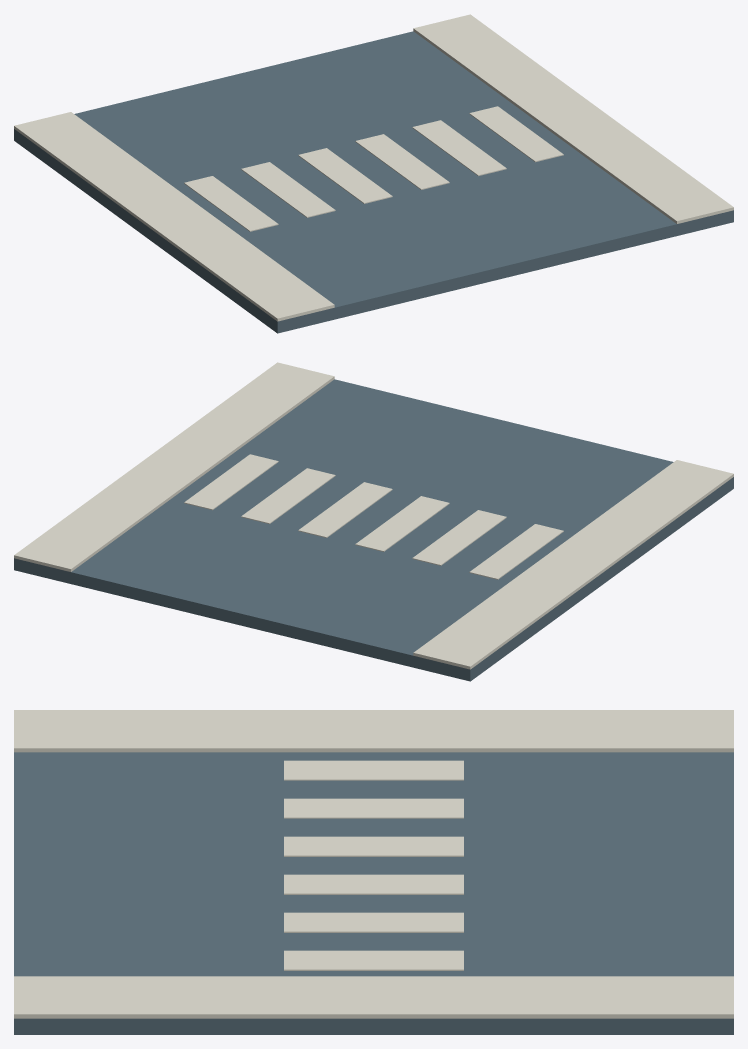
Rendered from voxel-city-districts-road-zebra-086574bd__24817.glb.
The picture shows the model from 3 angles, top to bottom: view 1: azimuth 30°, elevation 25°; view 2: azimuth 150°, elevation 25°; view 3: azimuth 270°, elevation 25°; orthographic projection. The views are drawn at different scales.
Parts seen in each view (by area): view 1: road-zebra-dark, road-zebra-concrete; view 2: road-zebra-dark, road-zebra-concrete; view 3: road-zebra-dark, road-zebra-concrete.
Boxes of the visible parts, box(x1,y1,x2,y2) form: road-zebra-dark: box(14, 31, 733, 333); road-zebra-concrete: box(14, 14, 733, 321); road-zebra-dark: box(14, 379, 733, 681); road-zebra-concrete: box(14, 362, 733, 669); road-zebra-dark: box(14, 752, 733, 1034); road-zebra-concrete: box(14, 710, 733, 1018).
Bounding box in the file's own units: 8 × 0.25 × 8.
